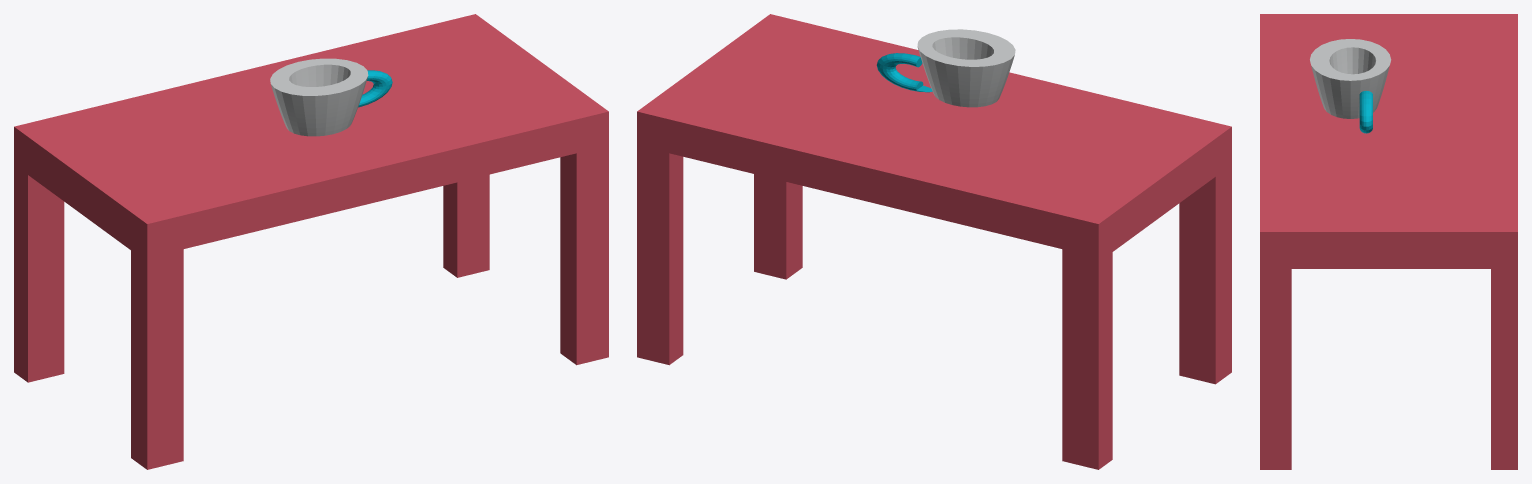
The model's file is table CL-149.glb.
3 renders of one model, left to right at view 1: azimuth 30°, elevation 25°; view 2: azimuth 150°, elevation 25°; view 3: azimuth 270°, elevation 25°, orthographic. The views are drawn at different scales.
Parts seen in each view (by area): view 1: Mesh_Mesh_head_geo.001_lambert2SG.001; view 2: Mesh_Mesh_head_geo.001_lambert2SG.001; view 3: Mesh_Mesh_head_geo.001_lambert2SG.001.
Part boxes in pixels (left/top/right/bottom): Mesh_Mesh_head_geo.001_lambert2SG.001: left=14, top=14, right=608, bottom=469; Mesh_Mesh_head_geo.001_lambert2SG.001: left=637, top=14, right=1231, bottom=469; Mesh_Mesh_head_geo.001_lambert2SG.001: left=1260, top=14, right=1517, bottom=469.
Size of the model in its own units: 114 by 72 by 57.
